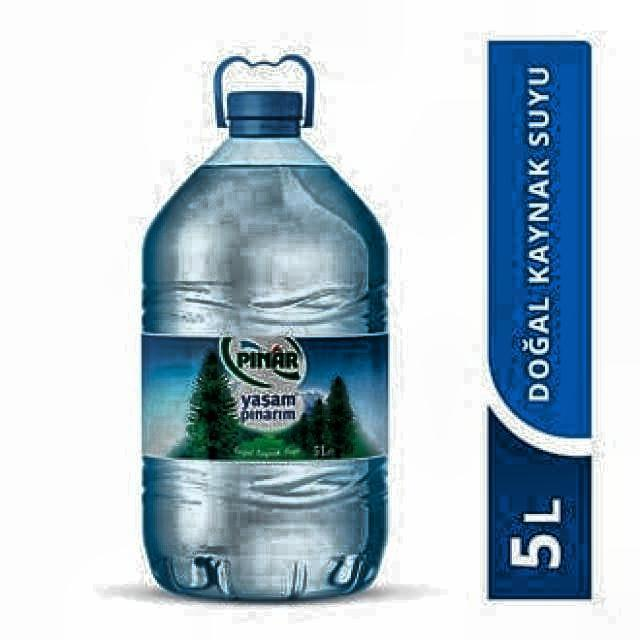plastic: (141, 54, 392, 600)
